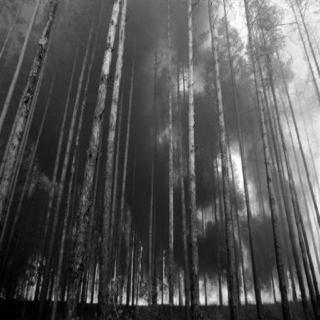Smoke: (13, 180, 59, 237)
